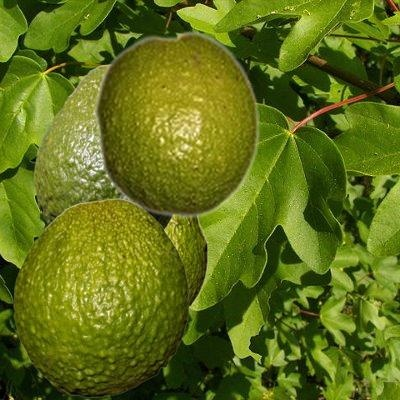avocado: (13, 198, 188, 396), (93, 29, 260, 219), (34, 63, 171, 229), (166, 218, 207, 308)
